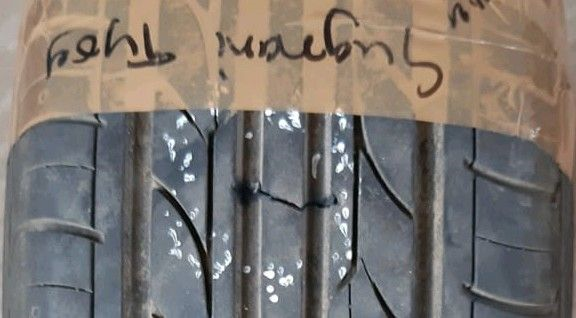tr: (227, 178, 340, 216)
